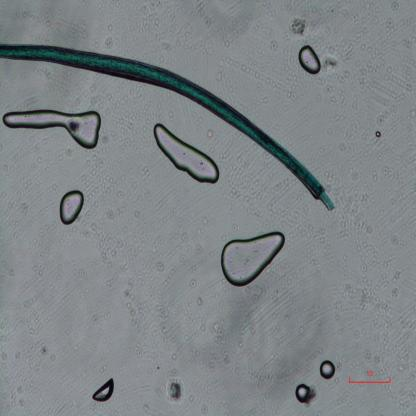Air bubble: (153, 124, 221, 184), (3, 110, 102, 150), (220, 229, 287, 288), (60, 188, 84, 226), (299, 45, 321, 75), (92, 378, 115, 403), (294, 383, 316, 407), (319, 358, 336, 381), (374, 129, 383, 139)
Background material: (353, 16, 391, 101), (164, 375, 186, 403), (208, 320, 227, 350), (288, 16, 309, 39), (323, 54, 340, 77), (380, 160, 394, 178), (38, 343, 48, 356), (389, 1, 401, 10)
Microfibre: (0, 43, 335, 212)
